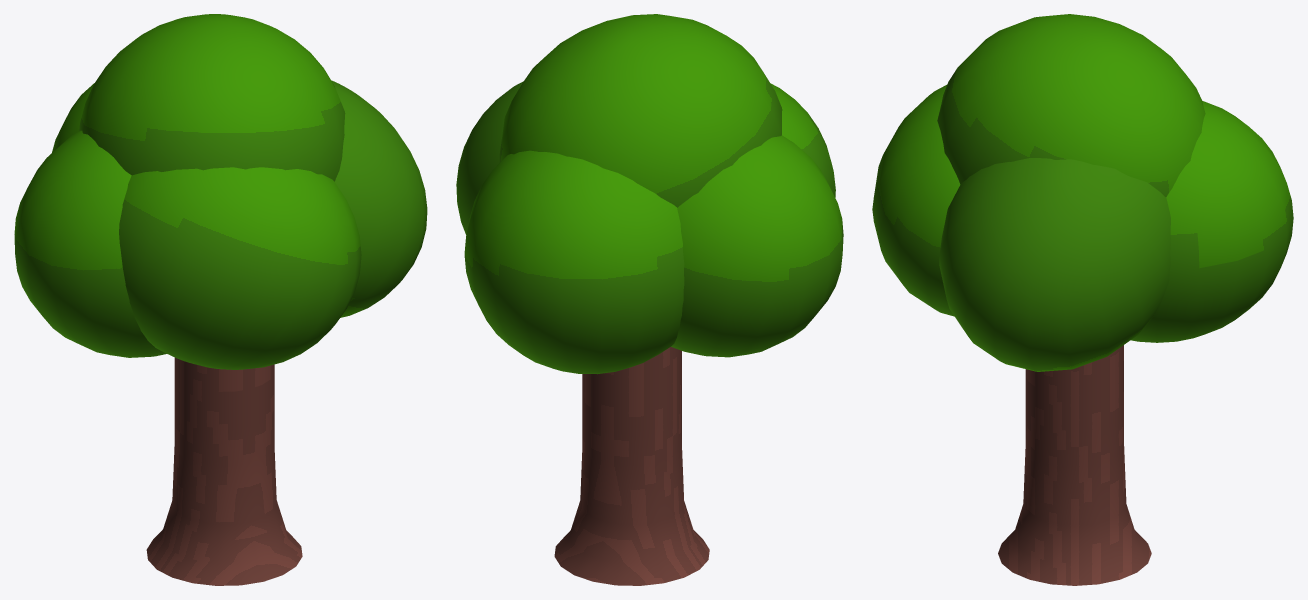
The model's file is TreeV1.fbx.
The picture shows the model from 3 angles, left to right: view 1: azimuth 30°, elevation 25°; view 2: azimuth 150°, elevation 25°; view 3: azimuth 270°, elevation 25°; orthographic projection.
Visible parts, largest first — view 1: TreeLeaves3, TreeLeaves5, Tree1, TreeLeaves2, TreeLeaves4, TreeLeaves1; view 2: TreeLeaves1, TreeLeaves5, TreeLeaves2, Tree1, TreeLeaves4, TreeLeaves3; view 3: TreeLeaves4, TreeLeaves5, Tree1, TreeLeaves1, TreeLeaves3.
Part boxes in pixels (x1=…): TreeLeaves3: x1=119, y1=167, x2=361, y2=369; TreeLeaves5: x1=79, y1=14, x2=345, y2=181; Tree1: x1=146, y1=357, x2=302, y2=585; TreeLeaves2: x1=14, y1=130, x2=166, y2=357; TreeLeaves4: x1=331, y1=80, x2=427, y2=317; TreeLeaves1: x1=52, y1=83, x2=94, y2=152; TreeLeaves1: x1=464, y1=150, x2=684, y2=374; TreeLeaves5: x1=499, y1=14, x2=782, y2=207; TreeLeaves2: x1=671, y1=135, x2=843, y2=357; Tree1: x1=554, y1=347, x2=709, y2=585; TreeLeaves4: x1=456, y1=81, x2=523, y2=234; TreeLeaves3: x1=770, y1=83, x2=835, y2=197; TreeLeaves4: x1=939, y1=158, x2=1170, y2=371; TreeLeaves5: x1=937, y1=14, x2=1205, y2=196; Tree1: x1=998, y1=345, x2=1151, y2=585; TreeLeaves1: x1=1131, y1=101, x2=1293, y2=342; TreeLeaves3: x1=872, y1=85, x2=960, y2=316.
Bounding box in the file's own units: 1516 × 2073 × 1523.
Materials: 2 (2 with a texture image).
